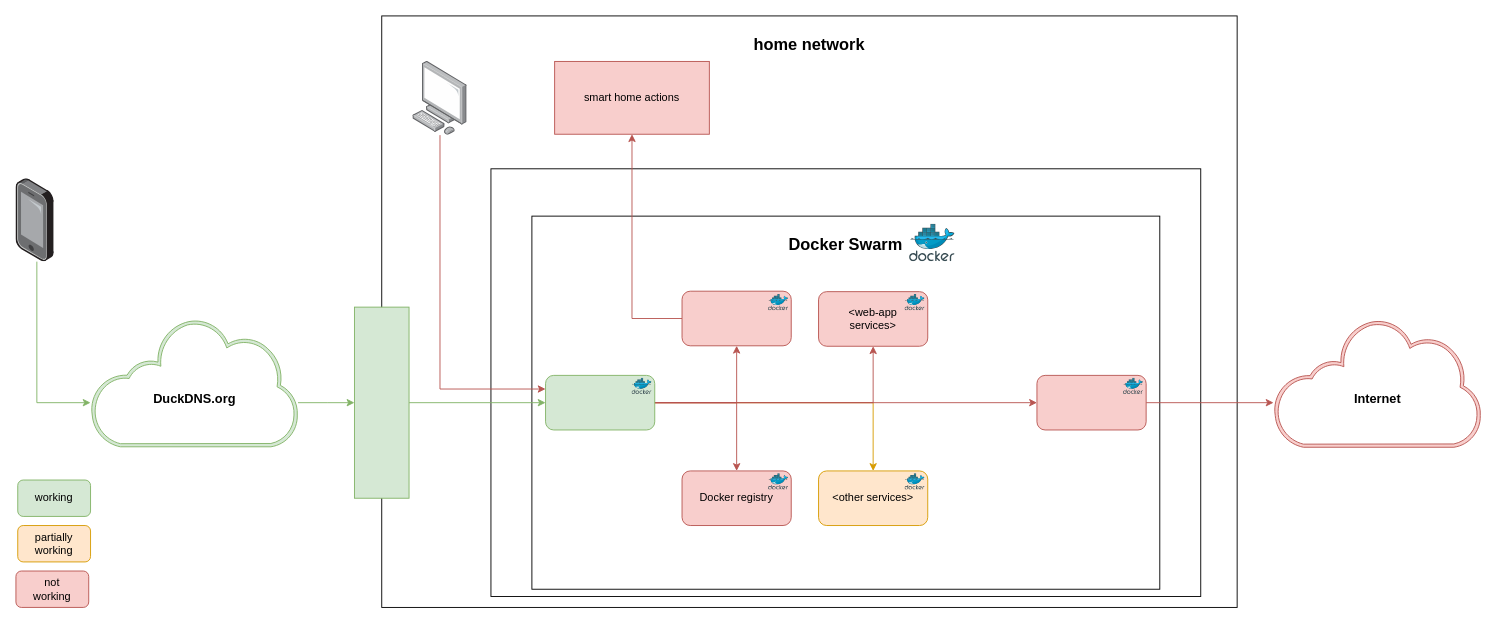
This 1497x623 diagram has some shape labels left out. The box of each missing label's shape, as (x1, y1, x2, y2) in pixels:
<smart home services>: (681, 290, 791, 346)
OpenVPN: (545, 374, 655, 430)
port forwarding: (354, 306, 409, 498)
RaspberryPi cluster: (490, 168, 1201, 597)
VPN: (1036, 374, 1146, 430)
